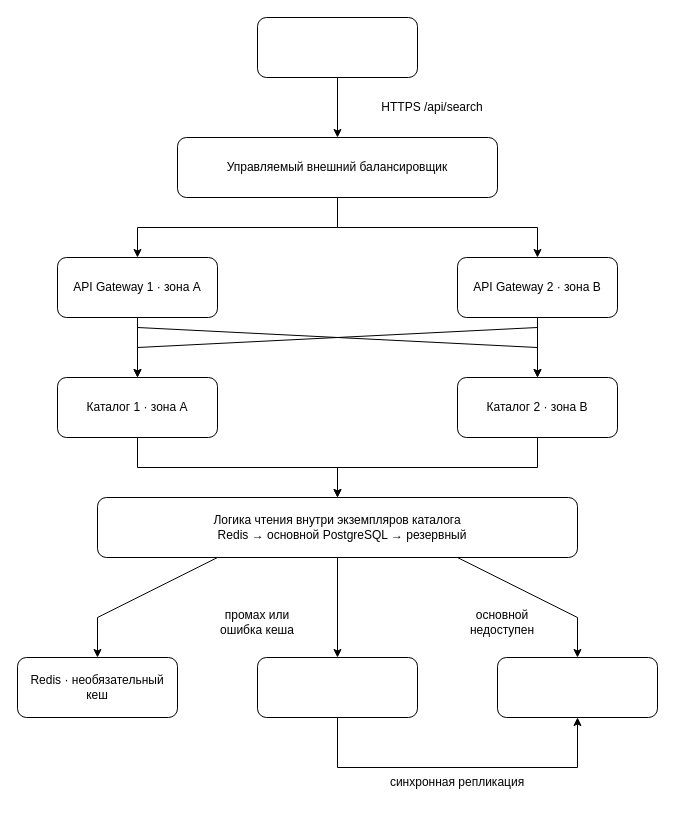
The diagram is 675 pixels wide and 815 high, and some of its shapes have lost their labels. Here are the shapes that lost their labels. From the top down, the centre of each, then its label:
pixel 337 47: Мобильный клиент Будущий HTTP-адаптер
pixel 337 687: PostgreSQL · основной
pixel 577 687: PostgreSQL · читаемый резервный
